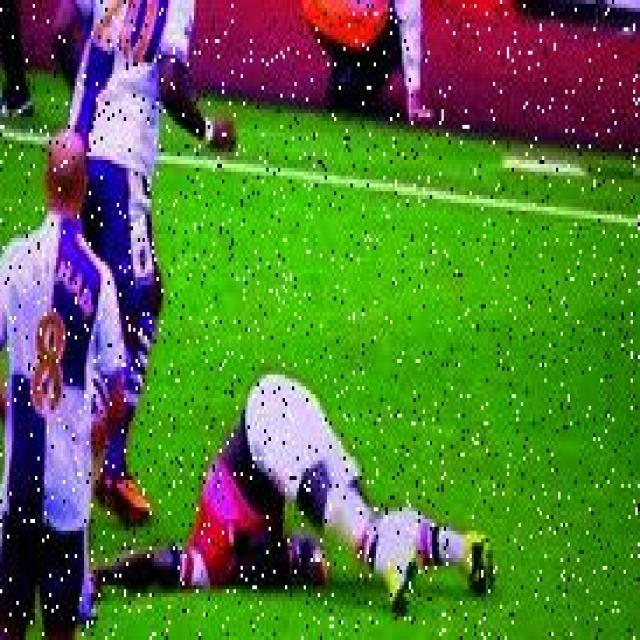fall: (147, 371, 486, 609)
